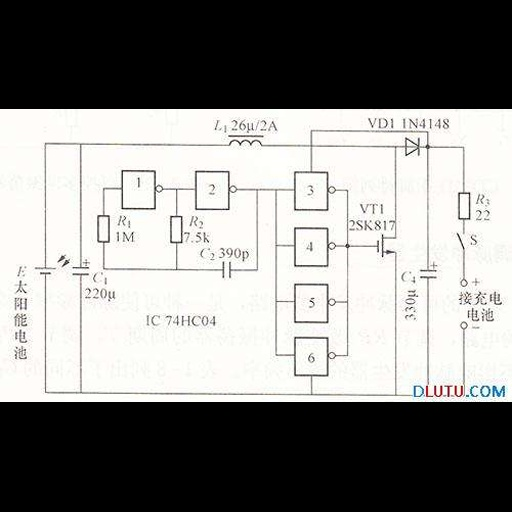capacitor: (218, 259, 235, 280)
firstpolarcapacitor: (418, 259, 439, 283), (72, 257, 91, 280)
firstresistance: (451, 189, 474, 224), (93, 212, 112, 247), (166, 213, 183, 248)
inductor: (222, 136, 269, 152)
seconddiode: (401, 134, 424, 160)
